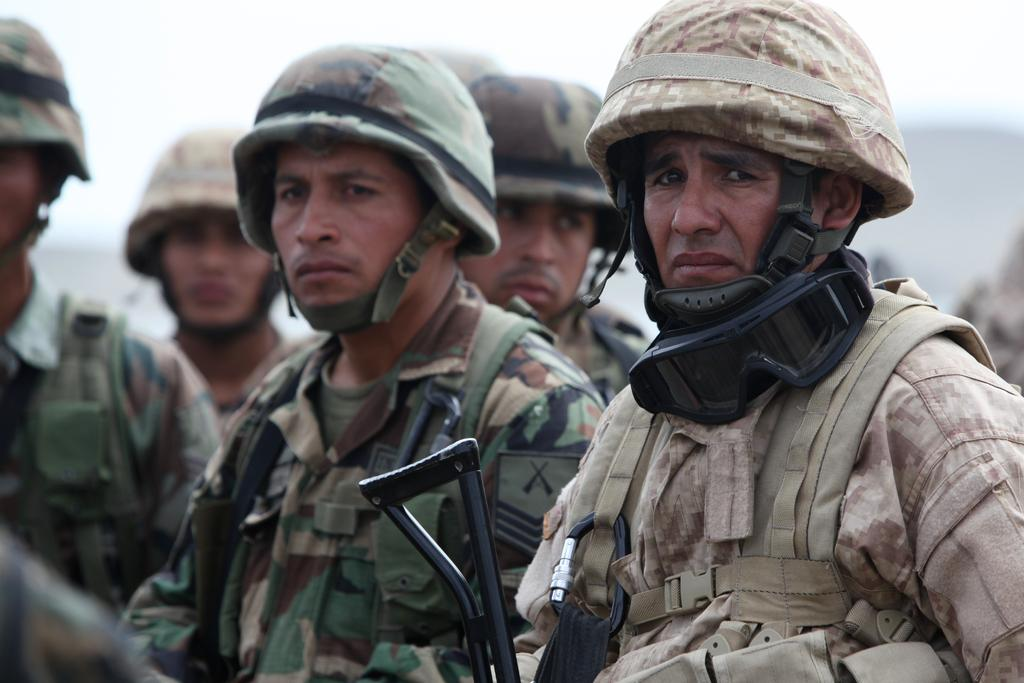Rifle: (358, 440, 520, 682)
